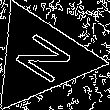N_SE: (5, 27, 76, 89)
